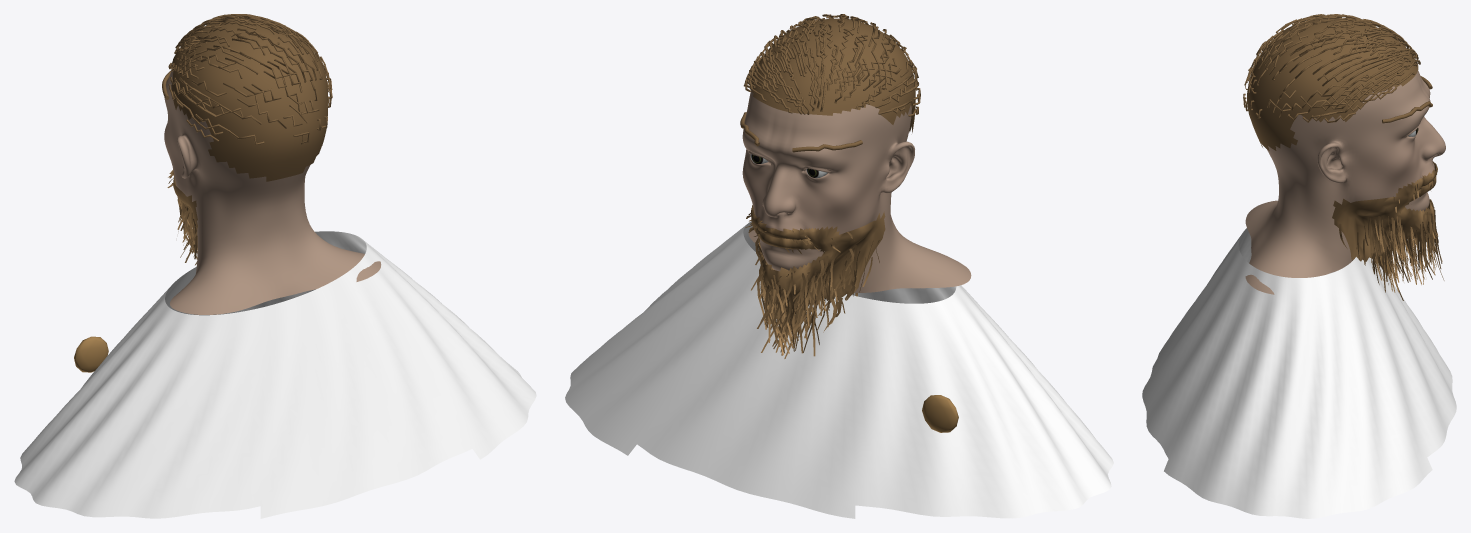
Rendered from envoy_068.glb.
3 renders of one model, left to right at view 1: azimuth 30°, elevation 25°; view 2: azimuth 150°, elevation 25°; view 3: azimuth 270°, elevation 25°, orthographic. The views are drawn at different scales.
Parts seen in each view (by area): view 1: Folded shoulder mantle, Envoy 068 body, Envoy 068 fitted scalp, Shoulder clasp, Hades beard hair cards; view 2: Folded shoulder mantle, Envoy 068 body, Envoy 068 fitted scalp, Hades beard hair cards, Hades beard hair shell, Shoulder clasp; view 3: Folded shoulder mantle, Envoy 068 body, Envoy 068 fitted scalp, Hades beard hair shell, Hades beard hair cards.
Boxes of the visible parts, x1,y1,x2,y2 form: Folded shoulder mantle: (14, 231, 536, 518); Envoy 068 body: (164, 71, 381, 314); Envoy 068 fitted scalp: (171, 18, 328, 181); Shoulder clasp: (74, 336, 108, 372); Hades beard hair cards: (167, 170, 197, 265); Folded shoulder mantle: (565, 221, 1113, 518); Envoy 068 body: (742, 90, 971, 292); Envoy 068 fitted scalp: (751, 18, 915, 132); Hades beard hair cards: (745, 212, 879, 358); Hades beard hair shell: (751, 205, 885, 300); Shoulder clasp: (922, 395, 958, 432); Folded shoulder mantle: (1142, 228, 1456, 518); Envoy 068 body: (1245, 70, 1445, 294); Envoy 068 fitted scalp: (1247, 18, 1418, 150); Hades beard hair shell: (1332, 161, 1437, 261); Hades beard hair cards: (1338, 168, 1444, 300).
Size of the model in its own units: 0.3152 by 0.2463 by 0.1831.
